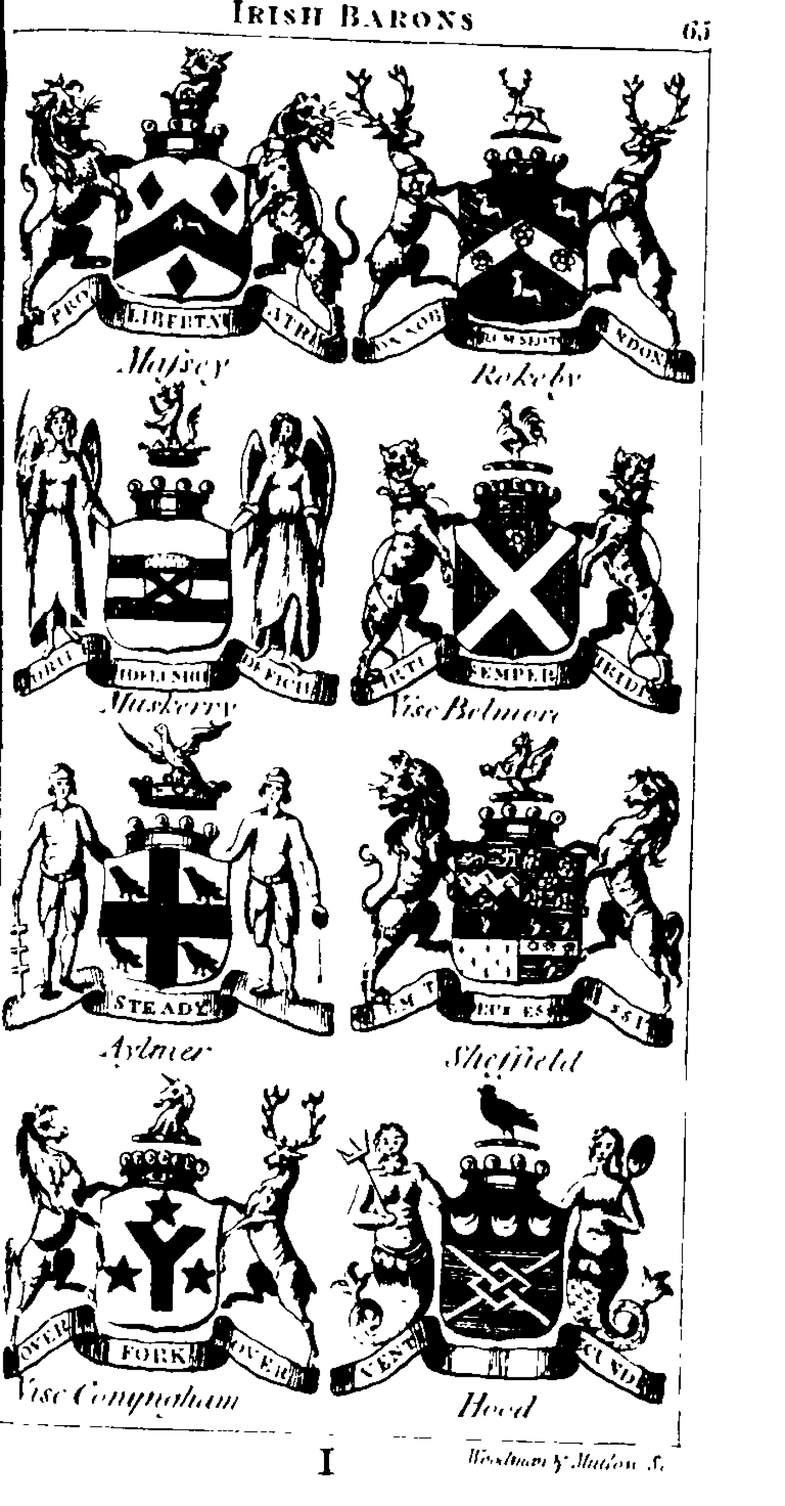coat_of_arms: (342, 47, 701, 395), (4, 720, 340, 1071), (339, 1092, 688, 1428), (347, 736, 687, 1079), (12, 44, 350, 383), (12, 381, 350, 720), (353, 390, 691, 729), (13, 1079, 328, 1428)
